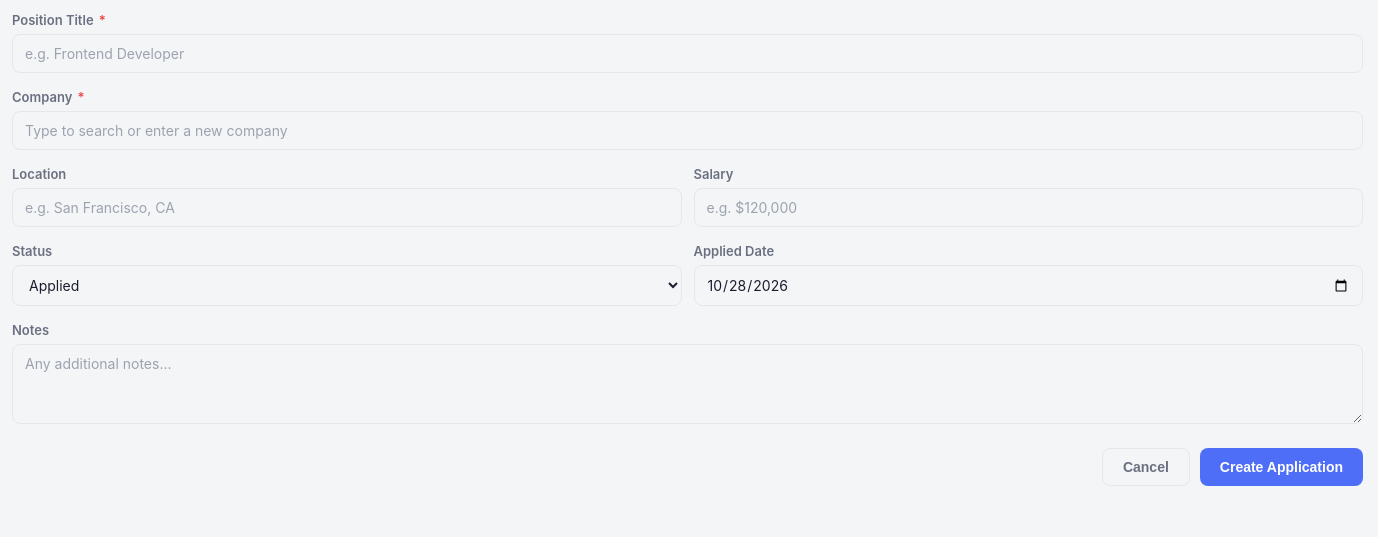
Test: ApplicationForm while fixing mistakes › drops a required message as soon as the field is filled in
This screenshot has width=1378, height=537.
Click the button "Create Application": x=1281, y=467 [1200,448,1363,486]
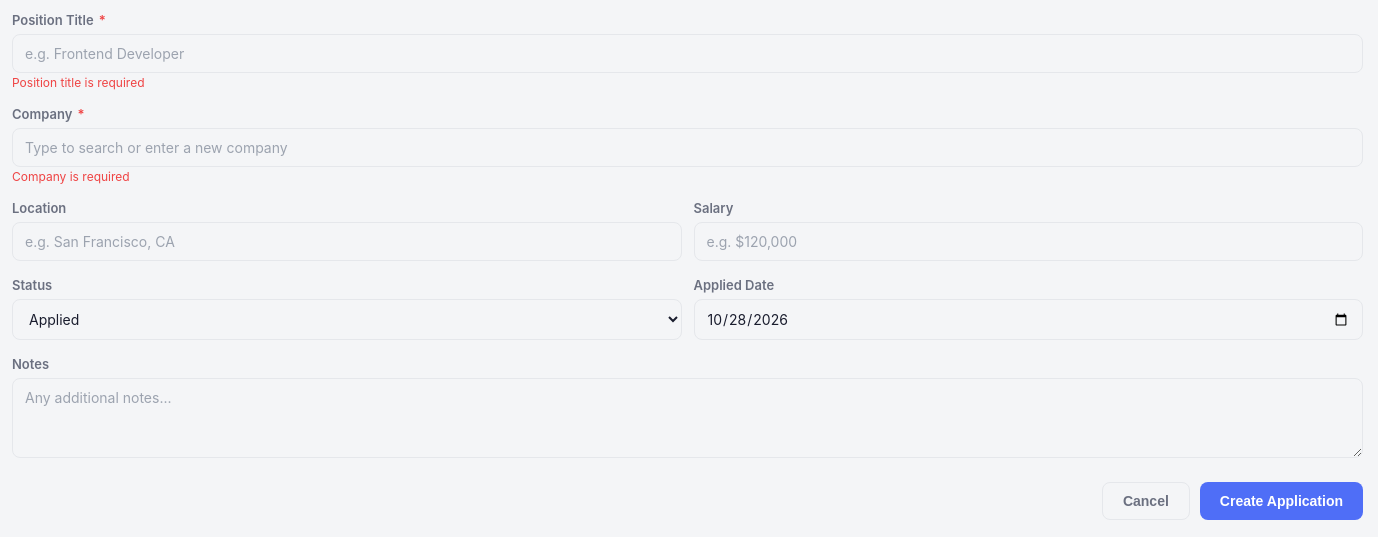
In the field with placeholder "e.g. Frontend Developer": x=688, y=54 [12,34,1363,73], type "Engineer"
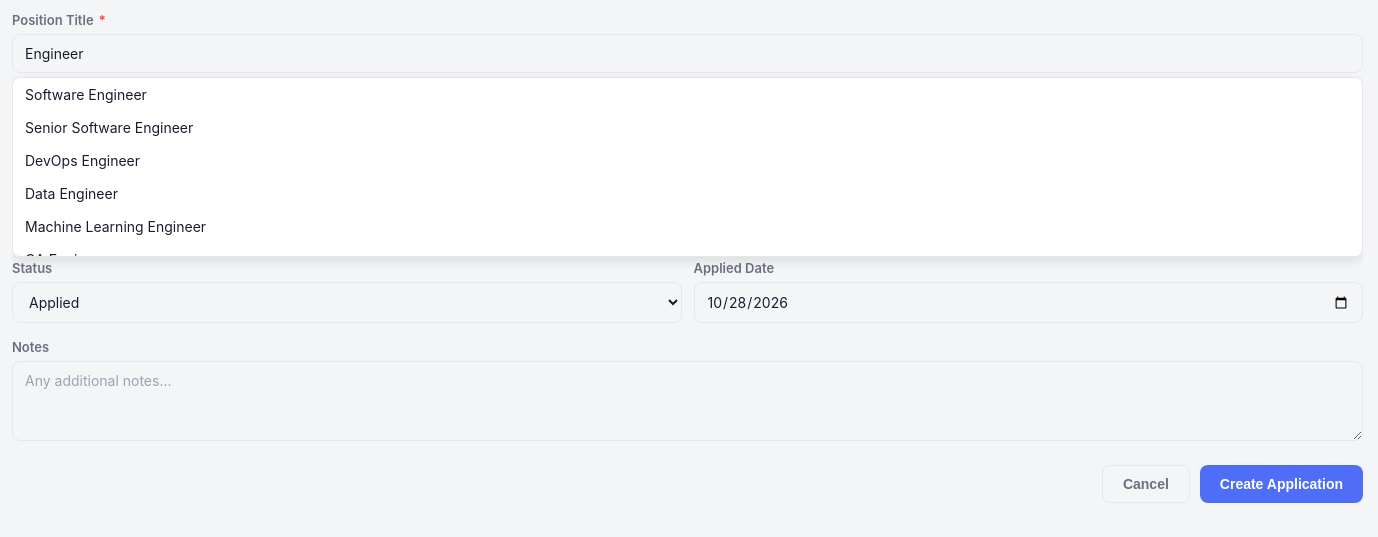
Result: the text "Company is required" is shown at [12,152,130,167]
Result: the text "Position title is required" is gone
